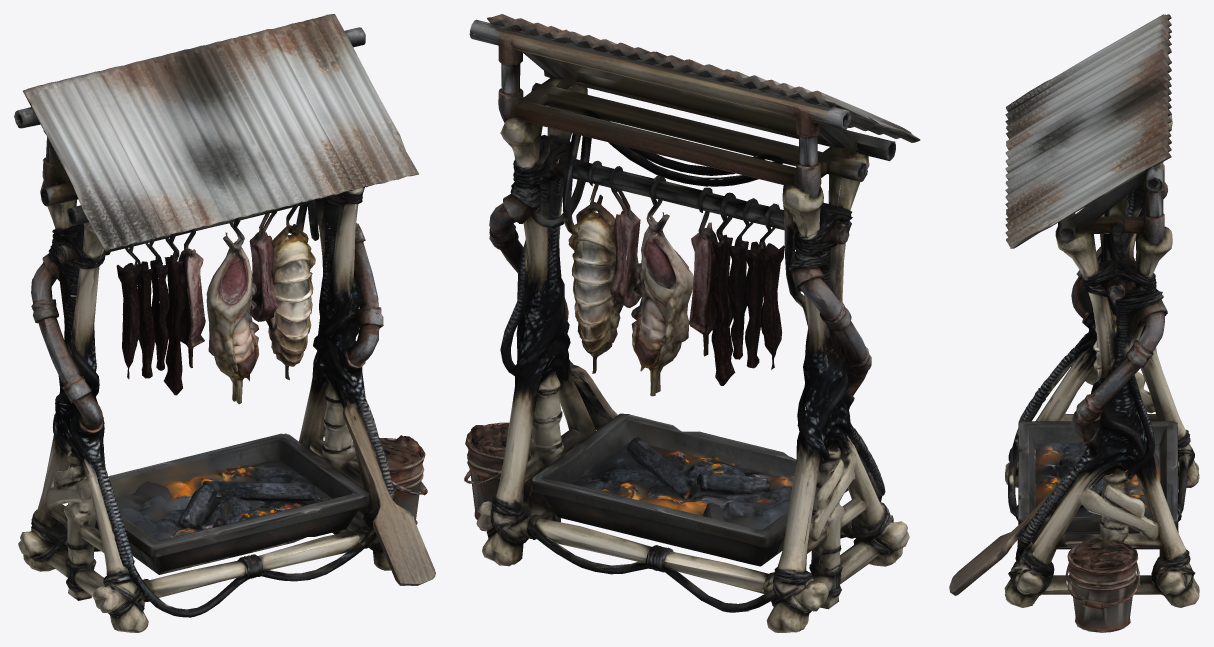
File: life_meat_smoking_rack.glb
The picture shows the model from 3 angles, left to right: view 1: azimuth 30°, elevation 25°; view 2: azimuth 150°, elevation 25°; view 3: azimuth 270°, elevation 25°; orthographic projection. The views are drawn at different scales.
Visible parts, largest first — view 1: node_0; view 2: node_0; view 3: node_0.
Boxes of the visible parts, <box> form: node_0: <box>14,14,435,632</box>; node_0: <box>464,14,920,632</box>; node_0: <box>949,14,1199,632</box>.
Size of the model in its own units: 0.7405 by 0.9334 by 0.4563.
Materials: 1 (1 with a texture image).
